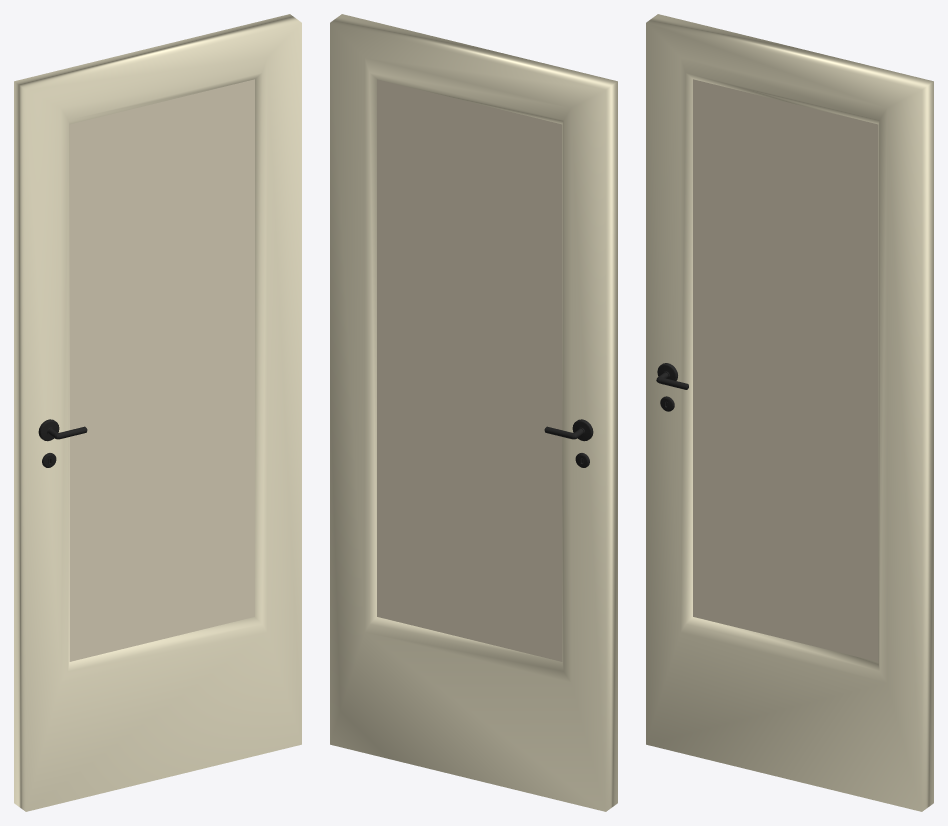
File: 331b0177-16be-4d4a-9a3e-971aac2a37b6.glb
3 views of the same model, side by side, from view 1: azimuth 30°, elevation 25°; view 2: azimuth 150°, elevation 25°; view 3: azimuth 330°, elevation 25° (orthographic).
Visible parts, largest first — view 1: Door.011; view 2: Door.011; view 3: Door.011.
Part boxes in pixels (x1,y1,x2,y2): Door.011: (14, 14, 301, 811); Door.011: (330, 14, 617, 811); Door.011: (646, 14, 933, 811).
Size of what is drawn, in the model's own units: 0.8628 by 2.16 by 0.1816.
Materials: 3 (3 with a texture image).
